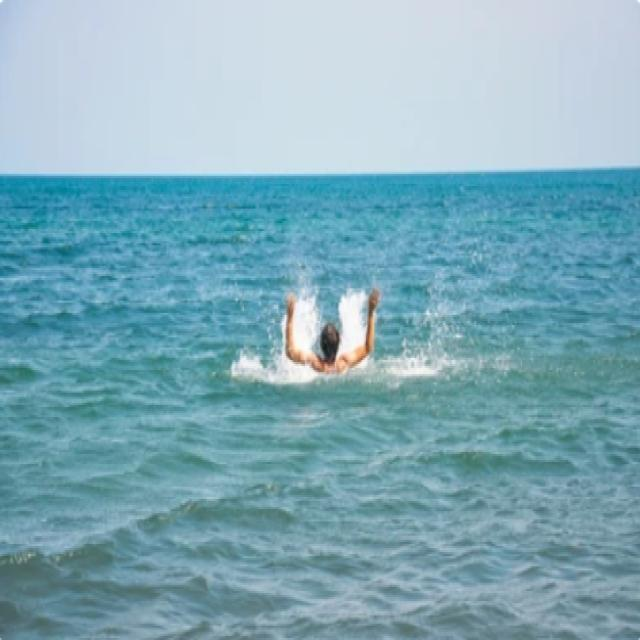Out of Water: (283, 282, 381, 378)
